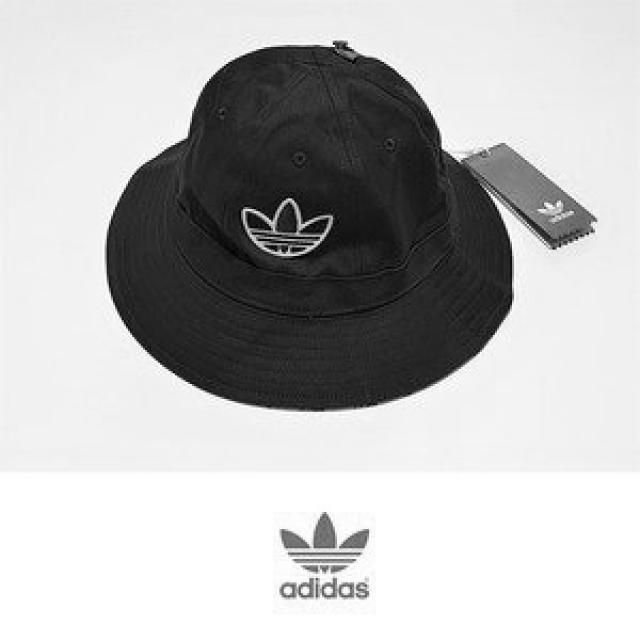Adidas: (237, 194, 342, 266), (273, 508, 376, 576), (533, 192, 572, 230)
